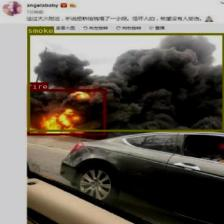fire: (26, 89, 106, 135)
smoke: (26, 32, 224, 131)
